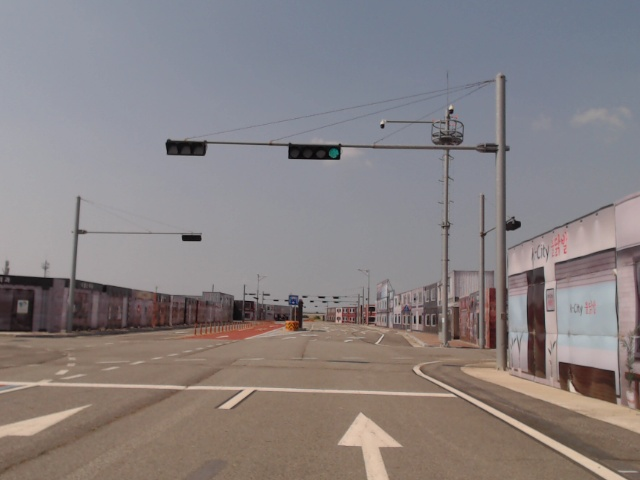straight_green_4: (290, 145, 339, 158)
